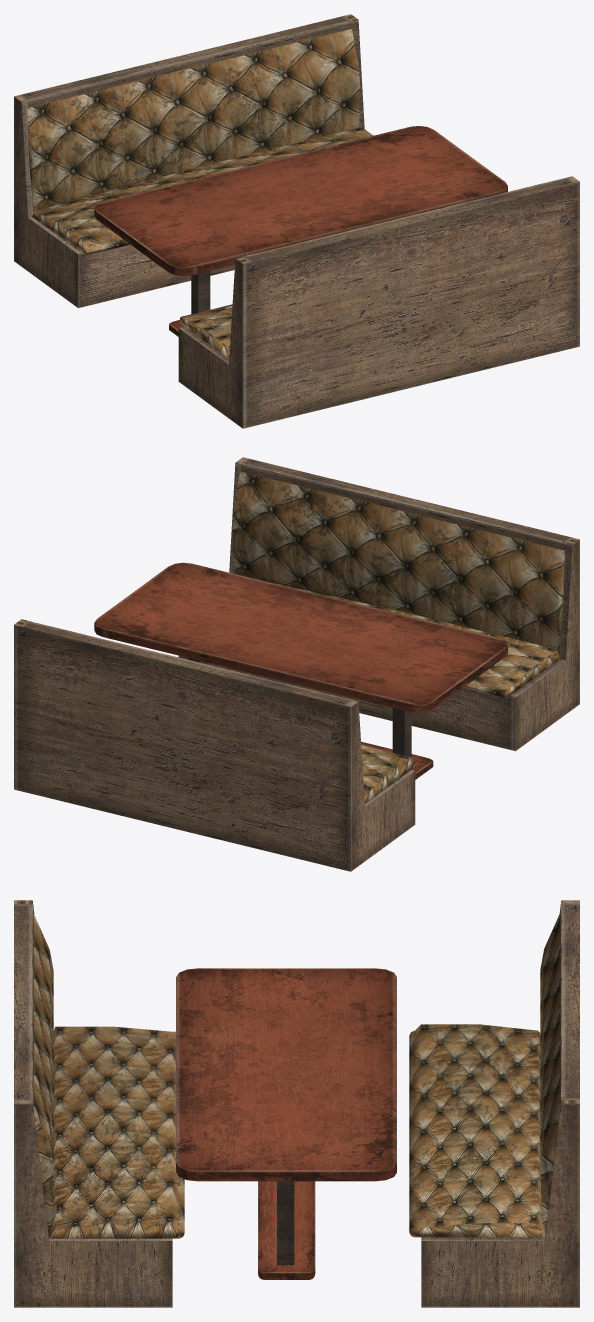
The model's file is RestaurantSeats.fbx.
The picture shows the model from 3 angles, top to bottom: view 1: azimuth 30°, elevation 25°; view 2: azimuth 150°, elevation 25°; view 3: azimuth 270°, elevation 25°; orthographic projection. The views are drawn at different scales.
Visible parts, largest first — view 1: RestaurantSofa1, RestaurantSofa, RestaurantTable; view 2: RestaurantSofa, RestaurantSofa1, RestaurantTable; view 3: RestaurantTable, RestaurantSofa, RestaurantSofa1.
Boxes of the visible parts, x1,y1,x2,y2 form: RestaurantSofa1: (178, 176, 579, 428); RestaurantSofa: (14, 14, 372, 308); RestaurantTable: (94, 126, 507, 336); RestaurantSofa: (14, 619, 415, 871); RestaurantSofa1: (178, 457, 579, 751); RestaurantTable: (94, 562, 507, 779); RestaurantTable: (176, 968, 396, 1279); RestaurantSofa: (409, 900, 579, 1307); RestaurantSofa1: (14, 900, 184, 1307).
Size of the model in its own units: 109 by 52.45 by 128.
